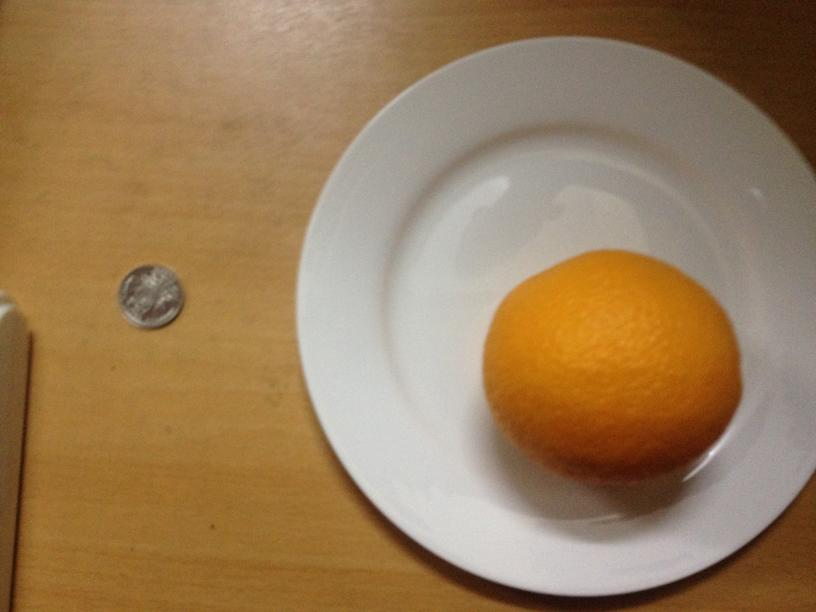coin: (116, 263, 185, 329)
orange: (481, 248, 741, 483)
